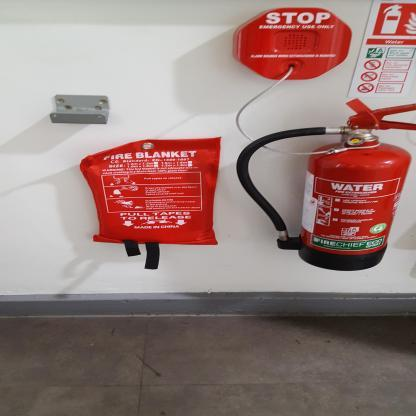Fire Extinguisher: (232, 97, 416, 278)
